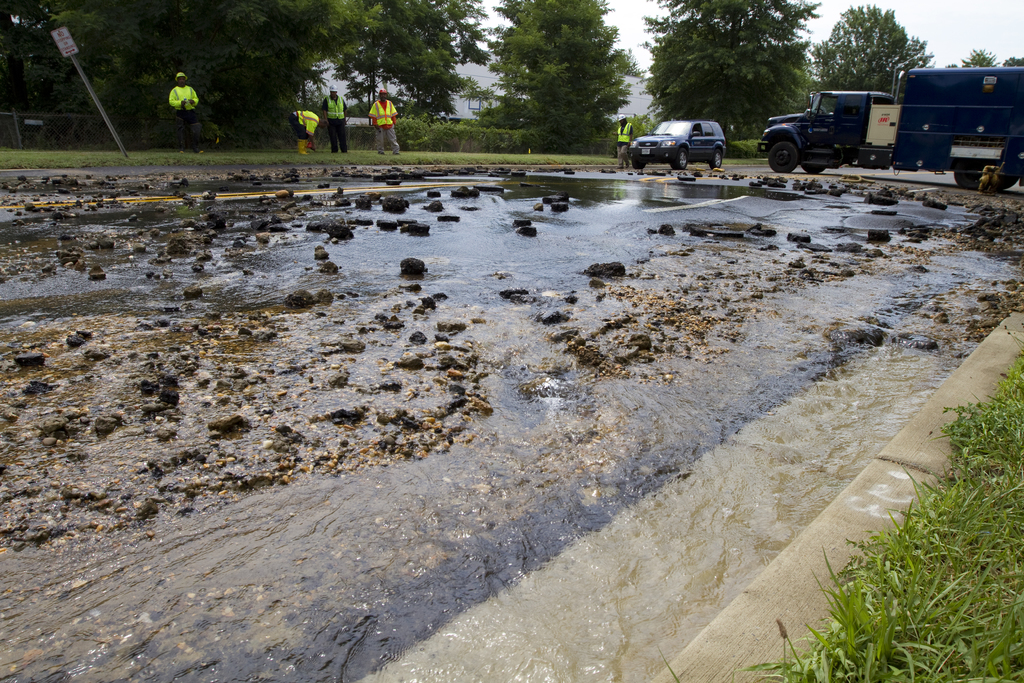Car: (629, 116, 727, 167)
